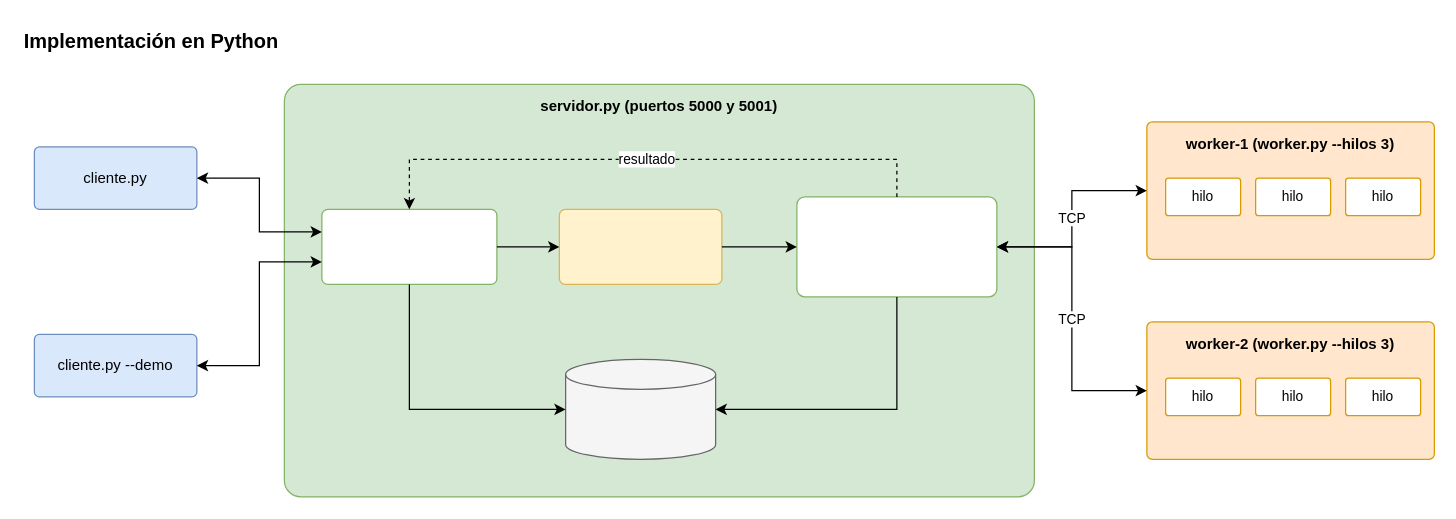
This 1456x519 diagram has some shape labels left out. Here are the shapes that lost their labels. From the top down, the centre of each, then its label:
the point at 409,246: Hilo por cliente atender_cliente()
the point at 640,246: Cola de tareas queue.Queue
the point at 896,246: Hilos por worker despachar() atender_worker()
the point at 640,408: tareas.db (SQLite)
